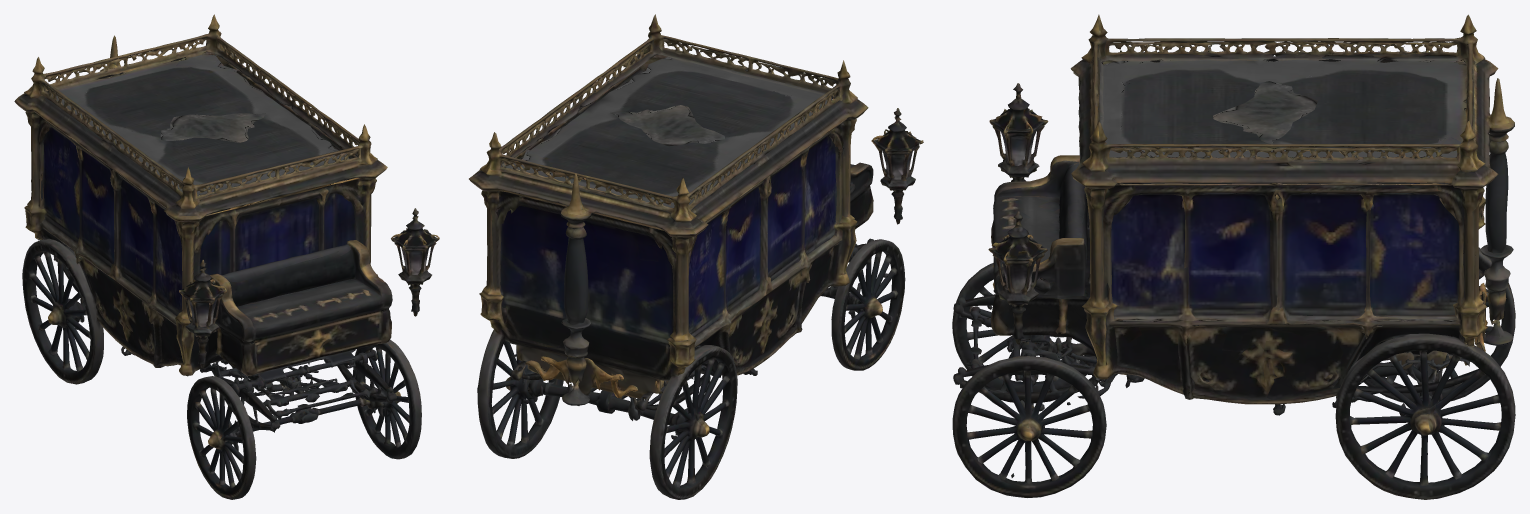
The model's file is катафалк-форы.glb.
3 views of the same model, side by side, from view 1: azimuth 30°, elevation 25°; view 2: azimuth 150°, elevation 25°; view 3: azimuth 270°, elevation 25° (orthographic). The views are drawn at different scales.
Parts seen in each view (by area): view 1: geometry_0; view 2: geometry_0; view 3: geometry_0.
Part boxes in pixels (bbox=[...]): geometry_0: bbox=[14, 14, 439, 499]; geometry_0: bbox=[469, 14, 923, 499]; geometry_0: bbox=[952, 14, 1515, 499].
Bounding box in the file's own units: 0.8391 × 1 × 1.33.
1 material, 1 textured.
